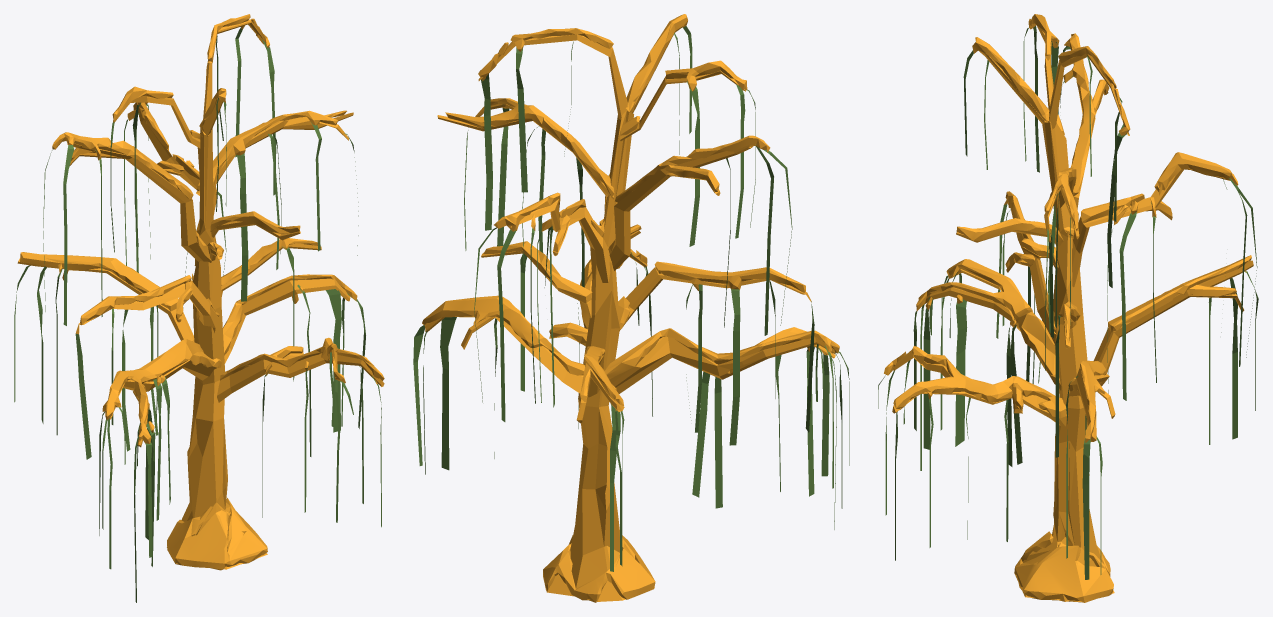
File: SM_Tree_Willow_Weeping_Mature_Bare_A_Snow.fbx
3 renders of one model, left to right at view 1: azimuth 30°, elevation 25°; view 2: azimuth 150°, elevation 25°; view 3: azimuth 270°, elevation 25°, orthographic. The views are drawn at different scales.
Parts seen in each view (by area): view 1: tree-willow-weeping-mature-bare-a-snow; view 2: tree-willow-weeping-mature-bare-a-snow; view 3: tree-willow-weeping-mature-bare-a-snow.
Boxes of the visible parts, box(x1,y1,x2,y2) form: tree-willow-weeping-mature-bare-a-snow: box(14, 14, 384, 602); tree-willow-weeping-mature-bare-a-snow: box(413, 14, 849, 602); tree-willow-weeping-mature-bare-a-snow: box(878, 14, 1258, 602).
Bounding box in the file's own units: 5.4 × 7.94 × 5.06.
